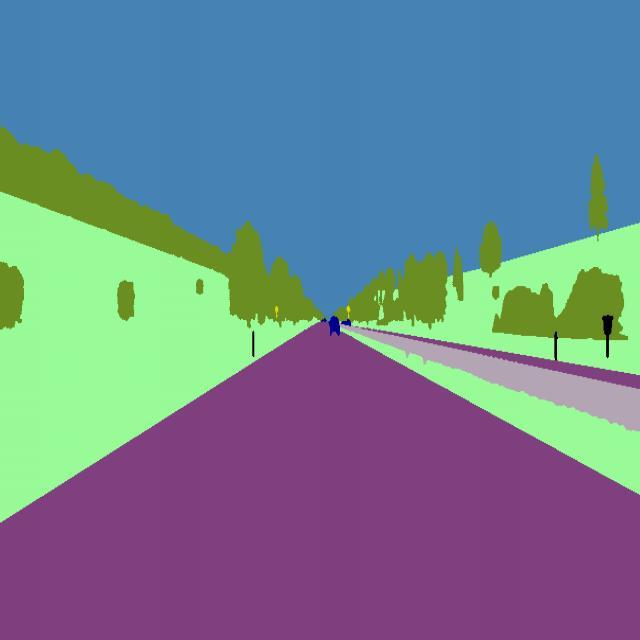safe: (326, 314, 344, 342)
